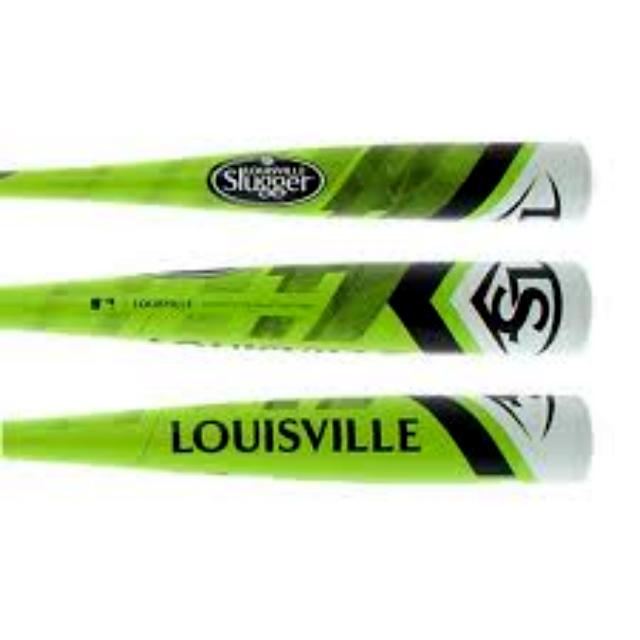baseball bat: (1, 391, 592, 484), (0, 262, 578, 344), (1, 147, 590, 223)
